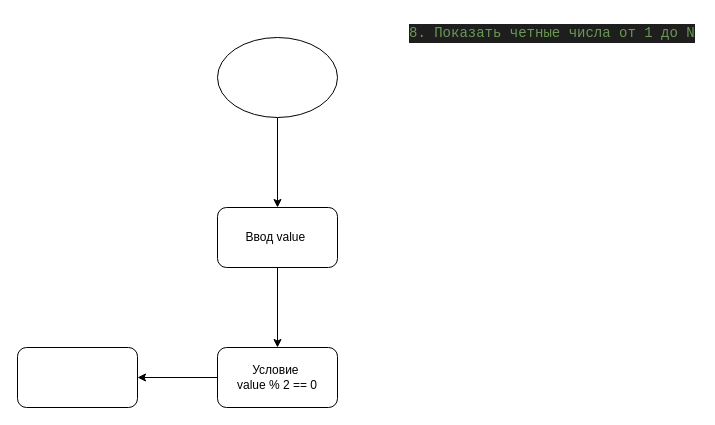
Image size: 715x425. Some labels were removed from this diagram. Each missing label, with the centre of its shape:
"START" belongs at (277,77).
"Да" belongs at (77,377).
